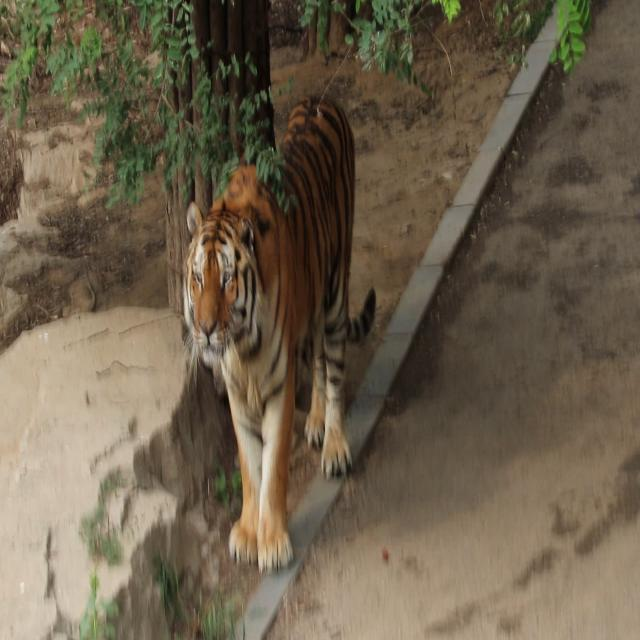Tiger: (176, 82, 389, 576)
